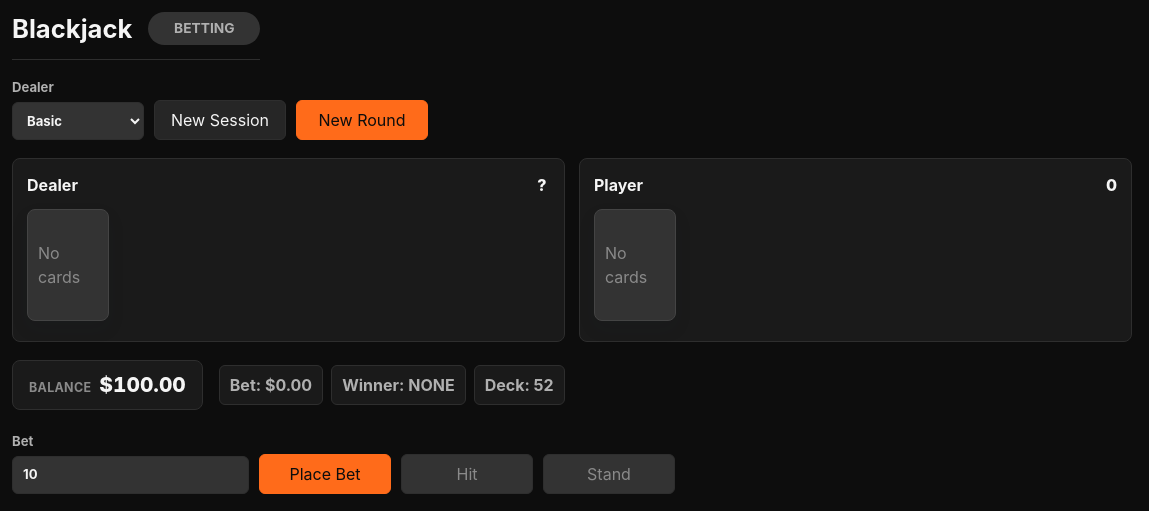
Scenario: Area 2 - rapid repeated clicks send a single request › double-click Place Bet: one request, disabled while pending, re-enabled after
Click the button "Place Bet" at {"x": 325, "y": 474}, box [259, 454, 391, 494]
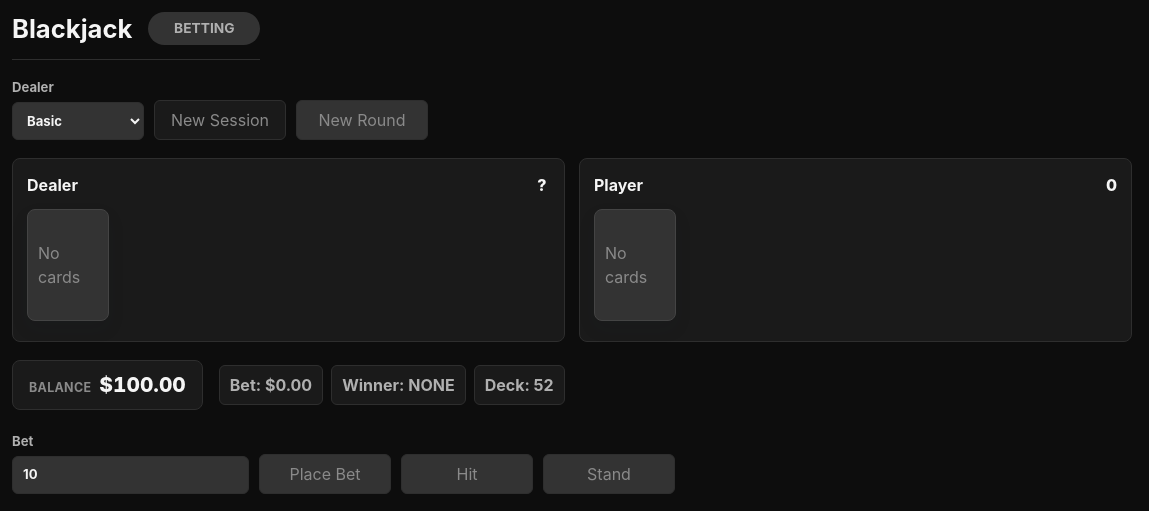
Expected: the button "Place Bet" is disabled
Click the button "Place Bet" at {"x": 325, "y": 474}, box [259, 454, 391, 494]
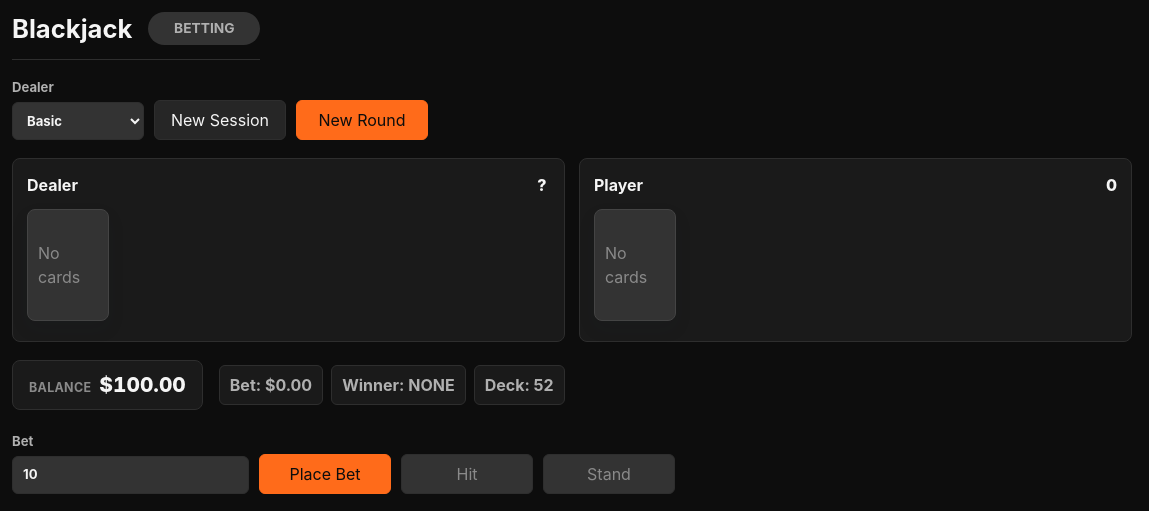
Expected: the button "Place Bet" is enabled, [259, 454, 391, 494]
